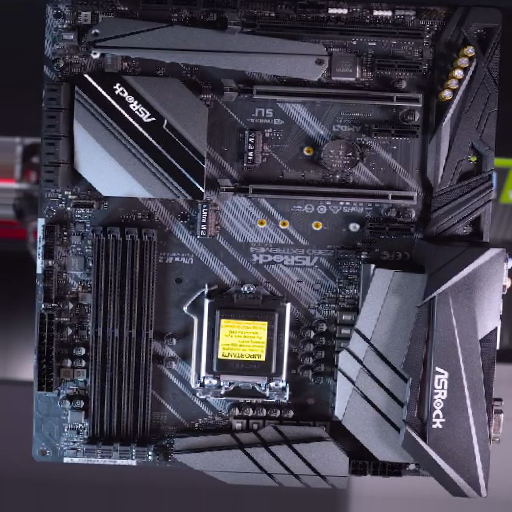CPU: (198, 281, 290, 394)
GPU: (217, 174, 420, 208), (223, 12, 430, 45), (221, 76, 425, 108)
MOTHERBOARD: (35, 5, 502, 496)
RAM: (86, 224, 161, 464)
SSD: (241, 125, 264, 168), (197, 202, 215, 238)
